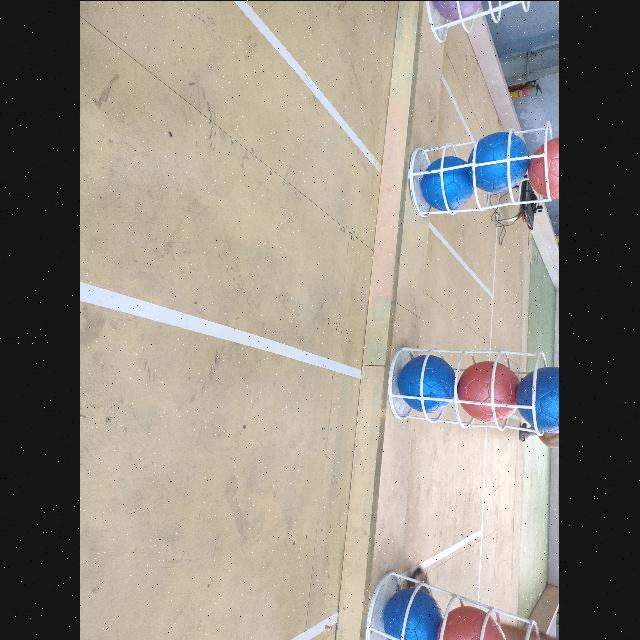B: (468, 132, 530, 192), (398, 354, 456, 412), (384, 586, 440, 640), (421, 155, 474, 209), (518, 365, 560, 433)
R: (458, 359, 516, 421), (438, 604, 509, 640), (528, 137, 560, 199)
